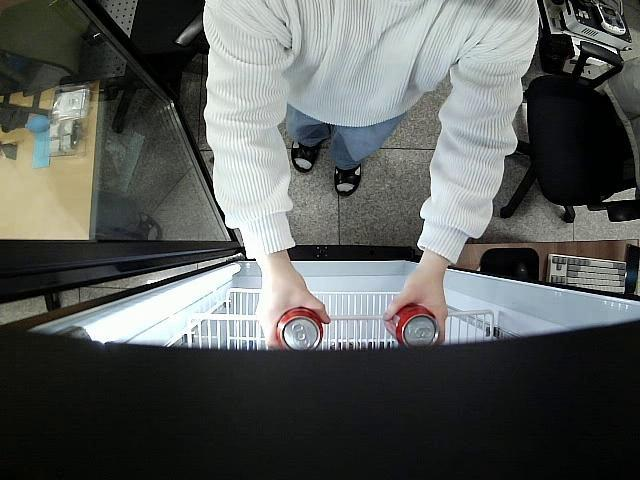11_cocaColaZero: (384, 304, 438, 347), (274, 306, 324, 350)
